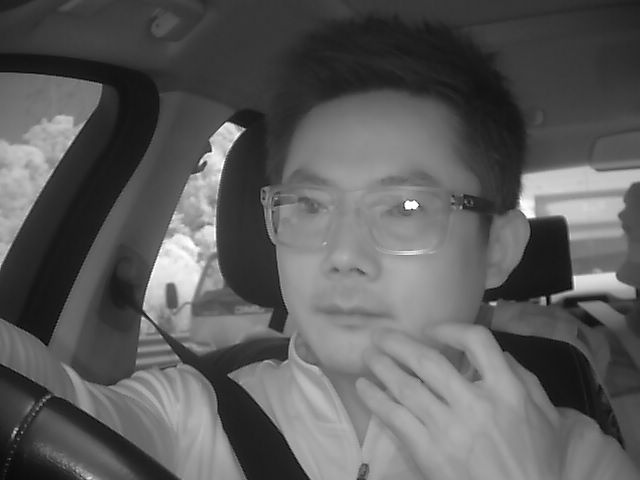hand: (361, 315, 548, 475)
